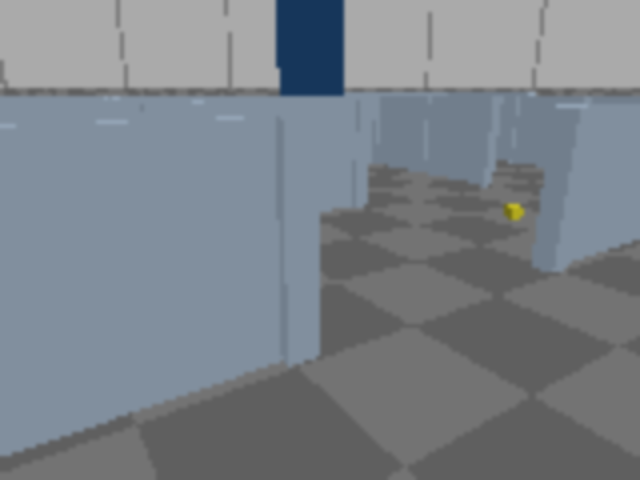puck: (504, 204, 523, 219)
